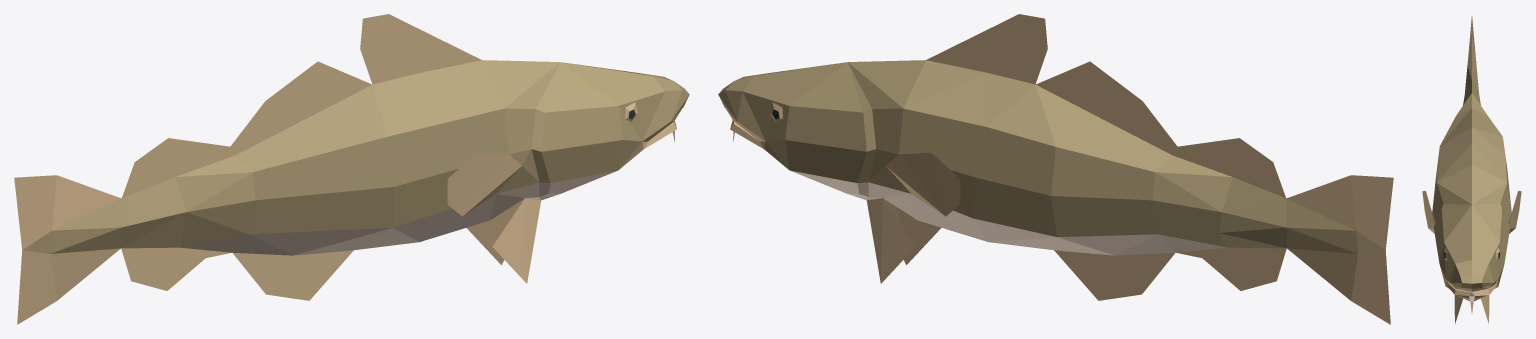
File: Atlantic Cod.fbx
3 renders of one model, left to right at view 1: azimuth 30°, elevation 25°; view 2: azimuth 150°, elevation 25°; view 3: azimuth 270°, elevation 25°, orthographic. The views are drawn at different scales.
Parts seen in each view (by area): view 1: Atlantic Cod; view 2: Atlantic Cod; view 3: Atlantic Cod.
Part boxes in pixels (x1,y1,x2,y2): Atlantic Cod: (14,14,689,324); Atlantic Cod: (718,14,1393,324); Atlantic Cod: (1422,16,1521,323).
Size of the model in its own units: 5.46 by 2.28 by 1.04.
